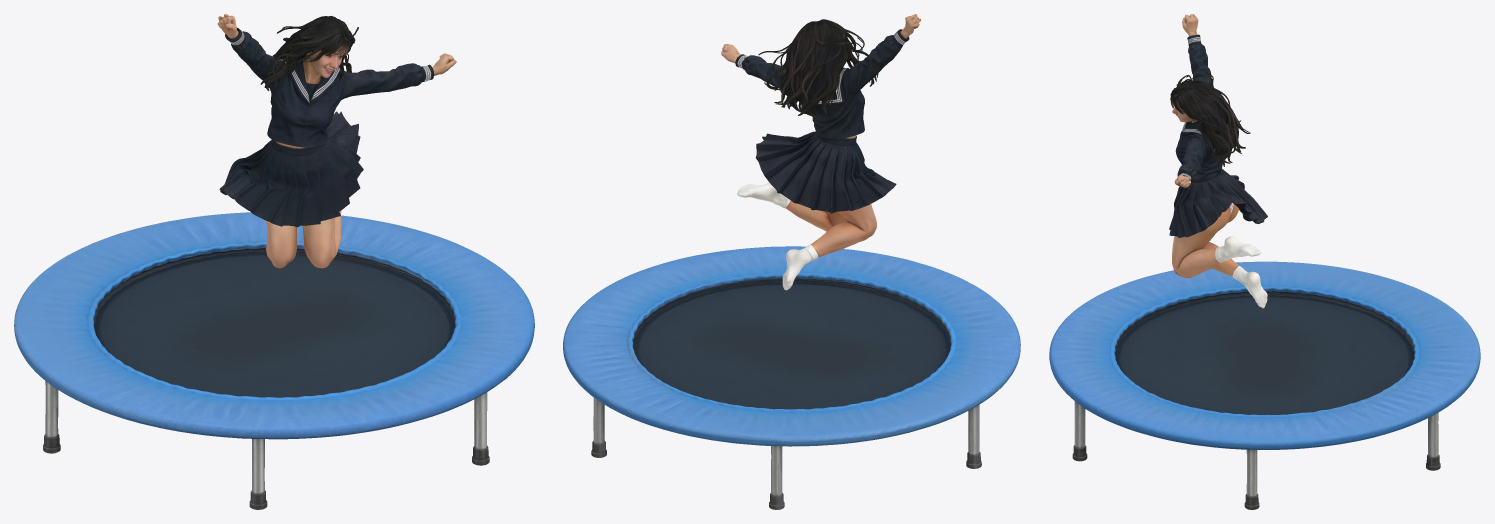
File: trampoline.glb
3 renders of one model, left to right at view 1: azimuth 30°, elevation 25°; view 2: azimuth 150°, elevation 25°; view 3: azimuth 270°, elevation 25°, orthographic. The views are drawn at different scales.
Visible parts, largest first — view 1: Trampoline (20T), Japan School Girl V28; view 2: Trampoline (20T), Japan School Girl V28; view 3: Trampoline (20T), Japan School Girl V28.
Boxes of the visible parts, x1,y1,x2,y2 form: Trampoline (20T): [14, 212, 534, 509]; Japan School Girl V28: [217, 14, 456, 268]; Trampoline (20T): [563, 246, 1020, 509]; Japan School Girl V28: [721, 14, 920, 290]; Trampoline (20T): [1049, 261, 1480, 509]; Japan School Girl V28: [1169, 14, 1267, 308].
Bounding box in the file's own units: 1.54 × 1.45 × 1.54.
Materials: 2 (2 with a texture image).
